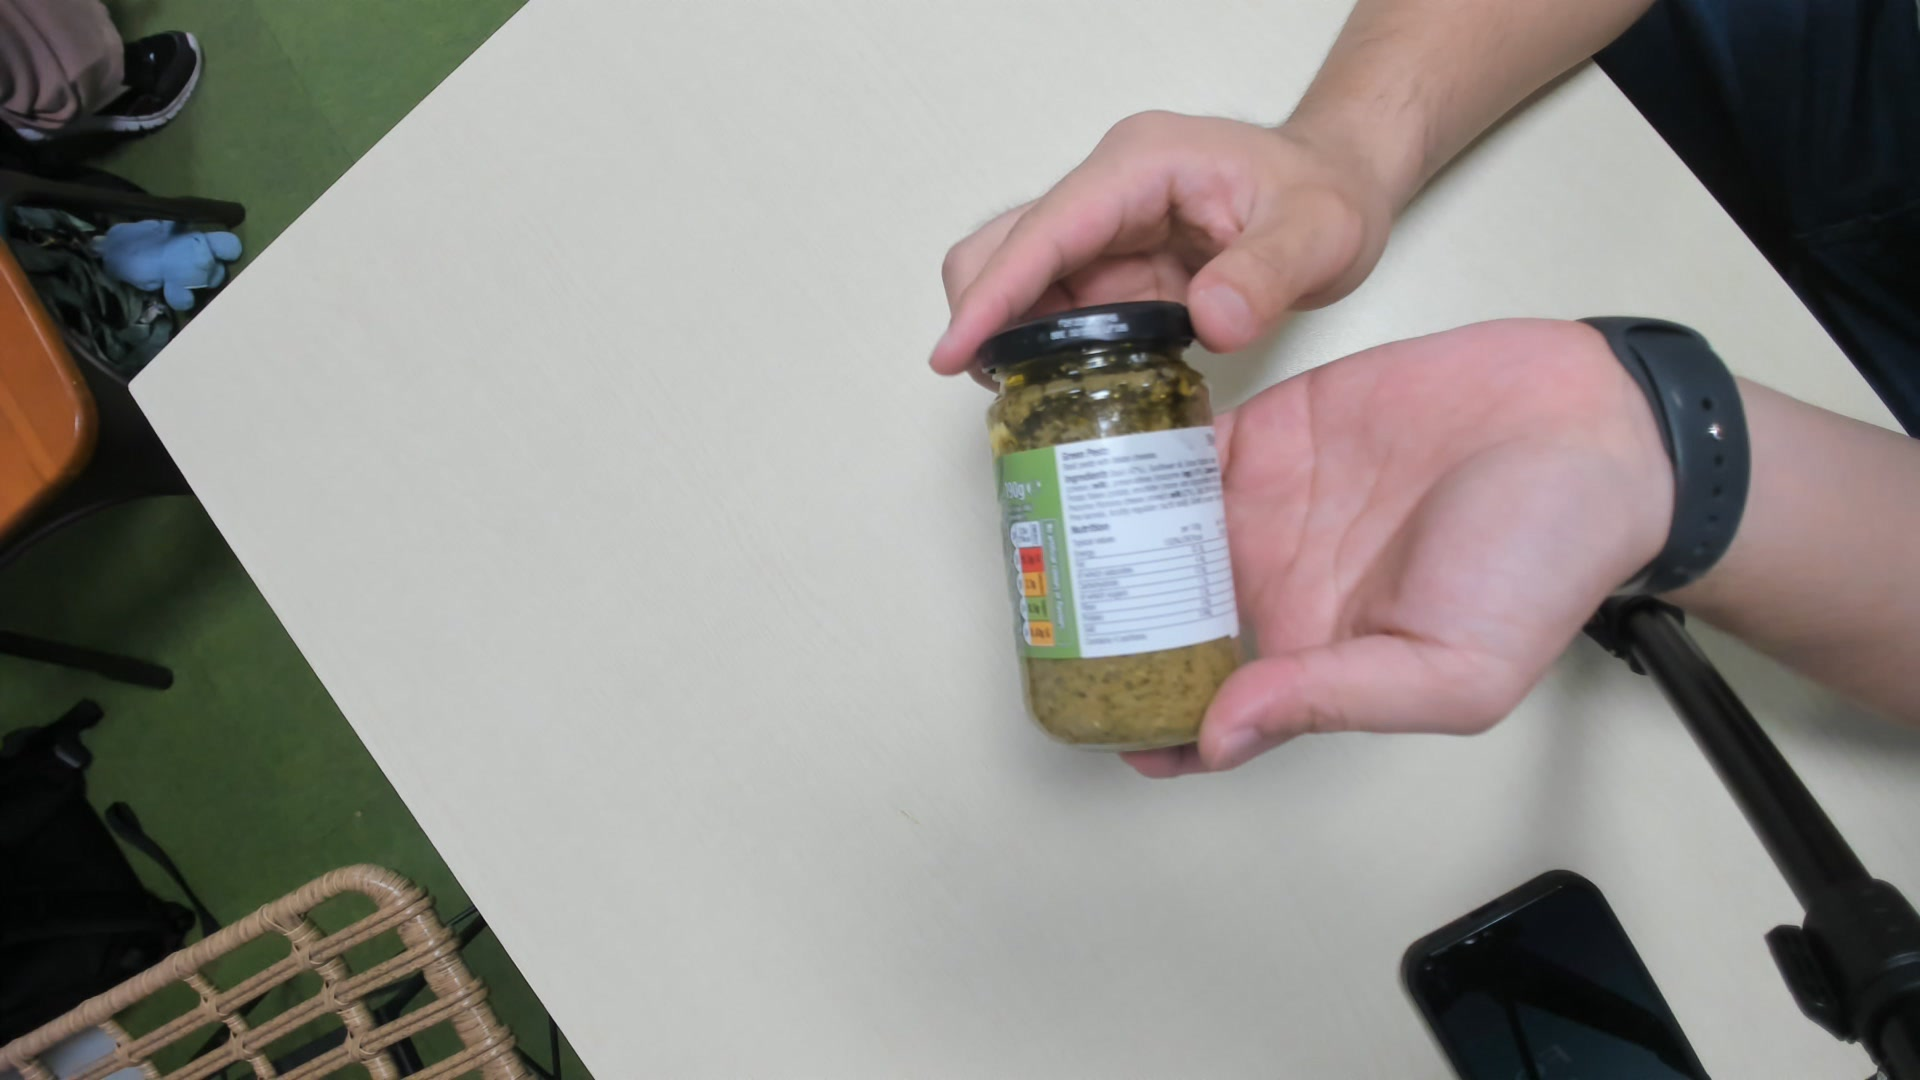OtherSauceDressing_100-199g_NonHalal_NonHealthy: (982, 305, 1241, 756)
